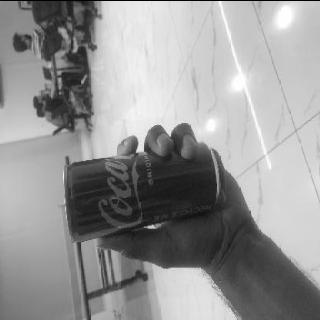alumunium_can: (61, 140, 227, 243)
